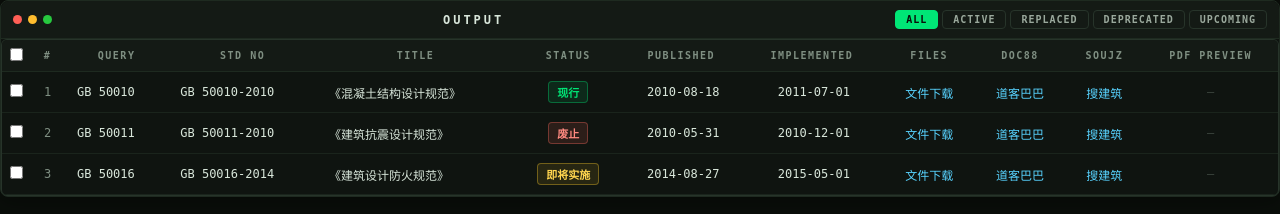
Test: resultsTable › filters rows by status
This screenshot has width=1280, height=214.
Click the button with class "filter-btn" showing "Deprecated" at point(1139, 20), box 1093,10 -> 1185,29
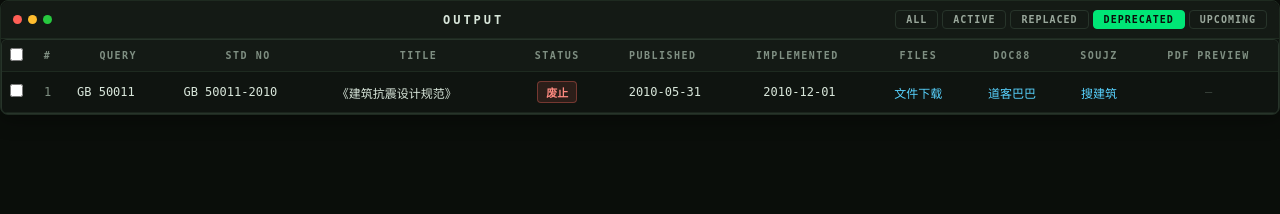
Check: the row that starts with "GB 50011" shows "GB 50011-2010", box 183,85 -> 277,99
